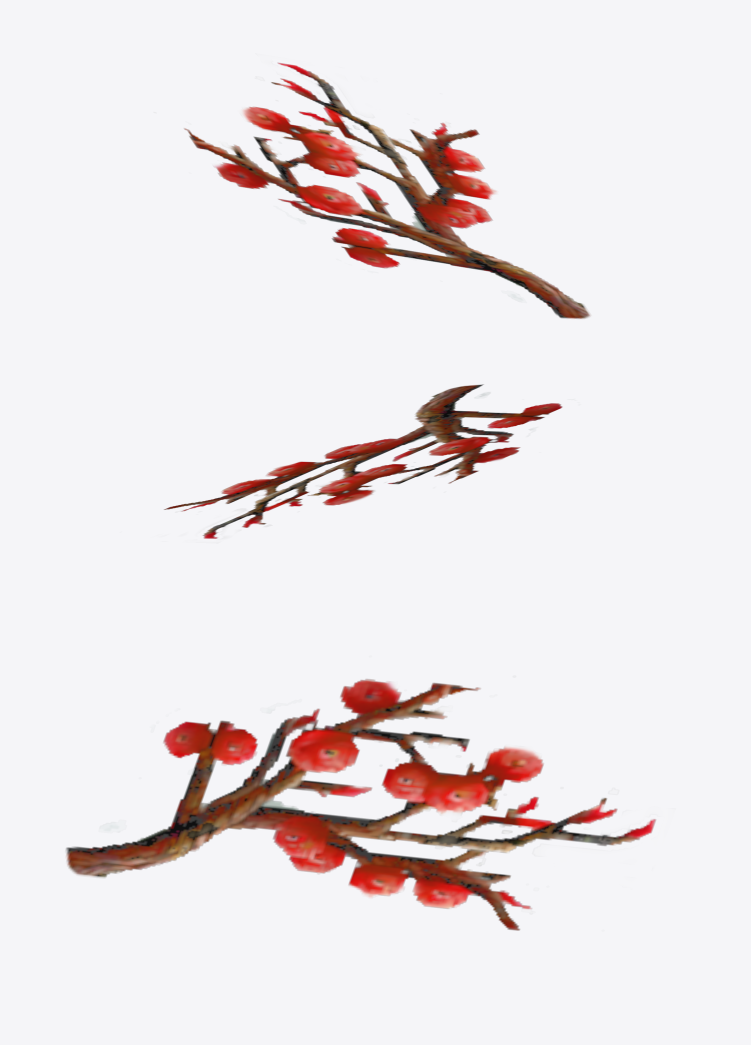
The model's file is H1_RPl_Cherry5.gltf.
The picture shows the model from 3 angles, top to bottom: view 1: azimuth 30°, elevation 25°; view 2: azimuth 150°, elevation 25°; view 3: azimuth 270°, elevation 25°; orthographic projection. The views are drawn at different scales.
Parts seen in each view (by area): view 1: H1_RPl_Cherry5; view 2: H1_RPl_Cherry5; view 3: H1_RPl_Cherry5.
Boxes of the visible parts, bbox=[...] form: H1_RPl_Cherry5: bbox=[154, 54, 590, 318]; H1_RPl_Cherry5: bbox=[164, 384, 561, 538]; H1_RPl_Cherry5: bbox=[66, 676, 675, 930].
Bounding box in the file's own units: 1.11 × 0.2717 × 1.14.
Materials: 1 (1 with a texture image).
